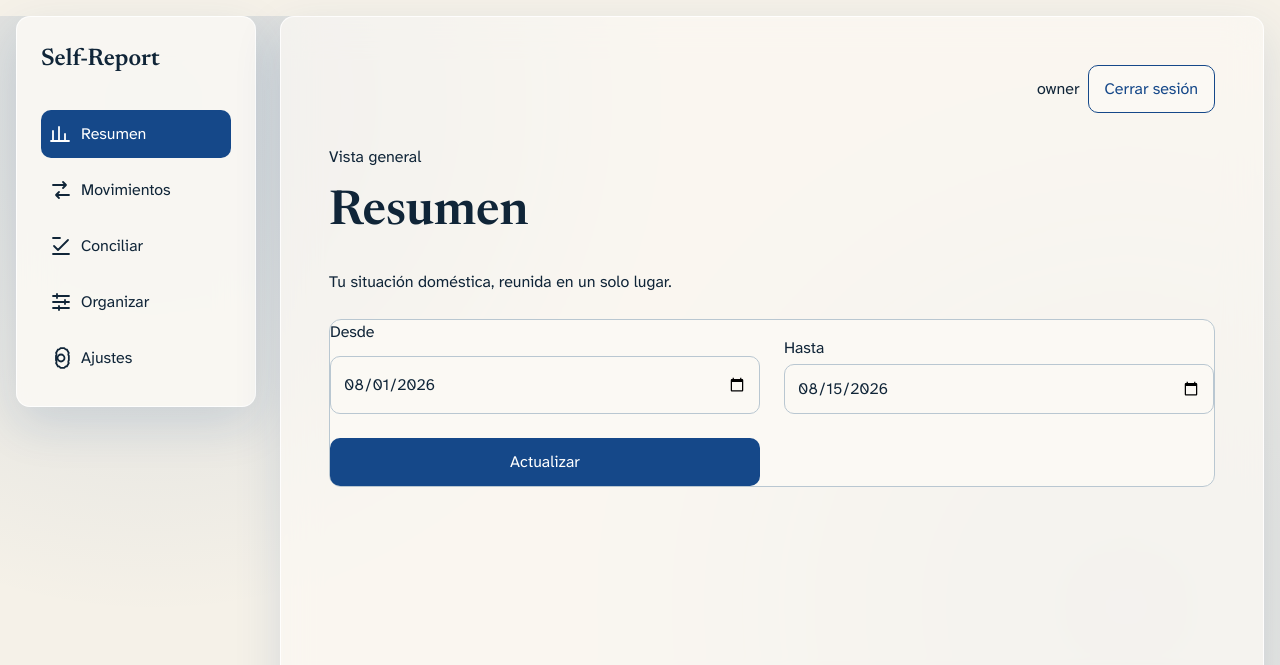
Test: protected application shell › creates the same-origin browser auth boundary when none is injected
This screenshot has width=1280, height=665.
Expected: the heading "Resumen" is shown, 329,189 -> 529,237
Click the link "Conciliar": coordinates (96, 246) 49,234 -> 143,258
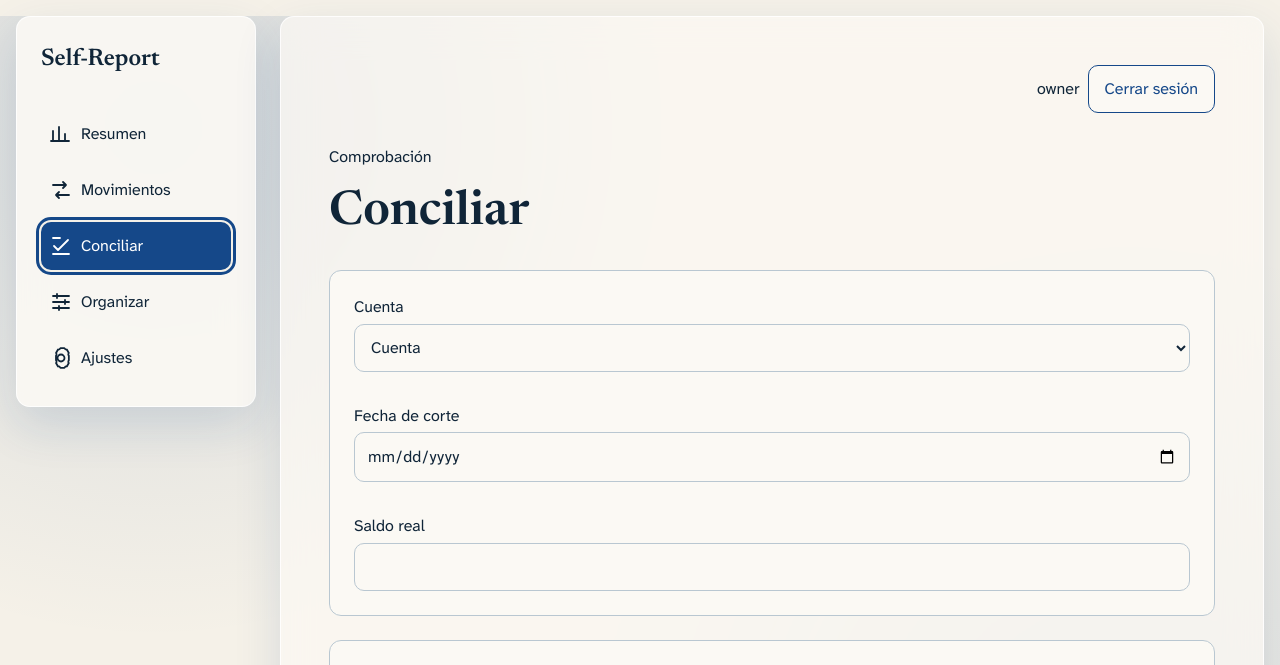
Now the heading "Conciliar" is shown, box 329,189 -> 529,237
Click the link "Resumen": coordinates (98, 134) 49,122 -> 146,146
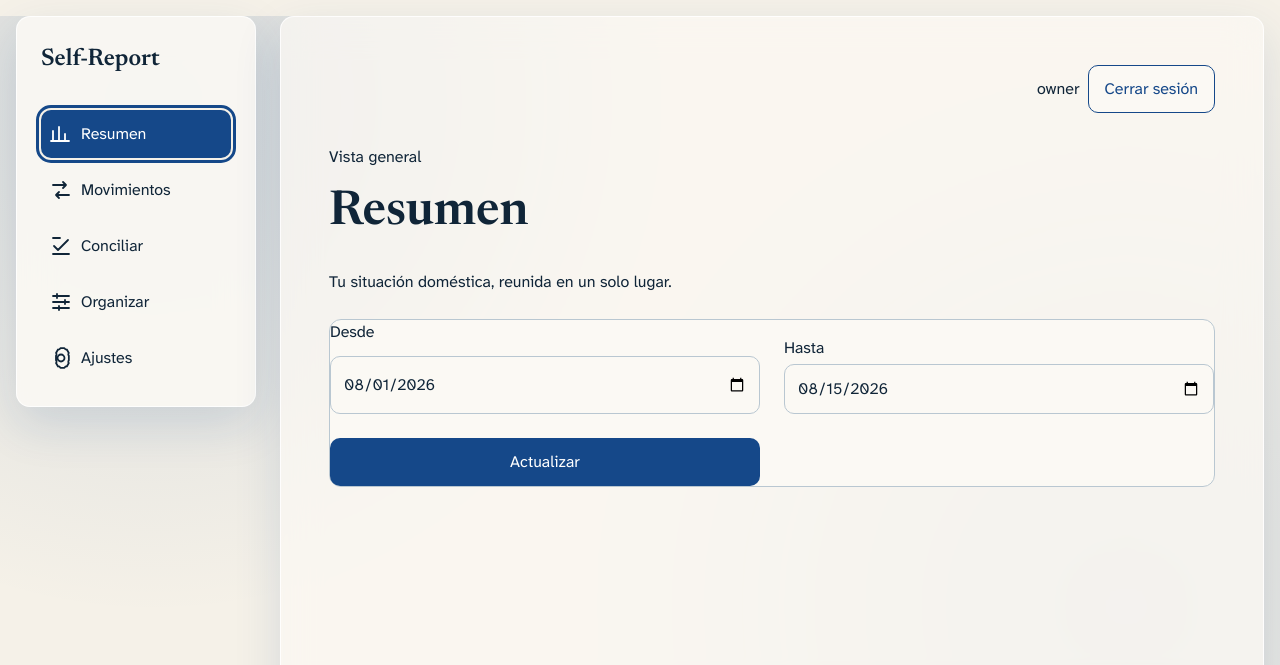
Click the button "Actualizar": coordinates (545, 462) 330,438 -> 760,486
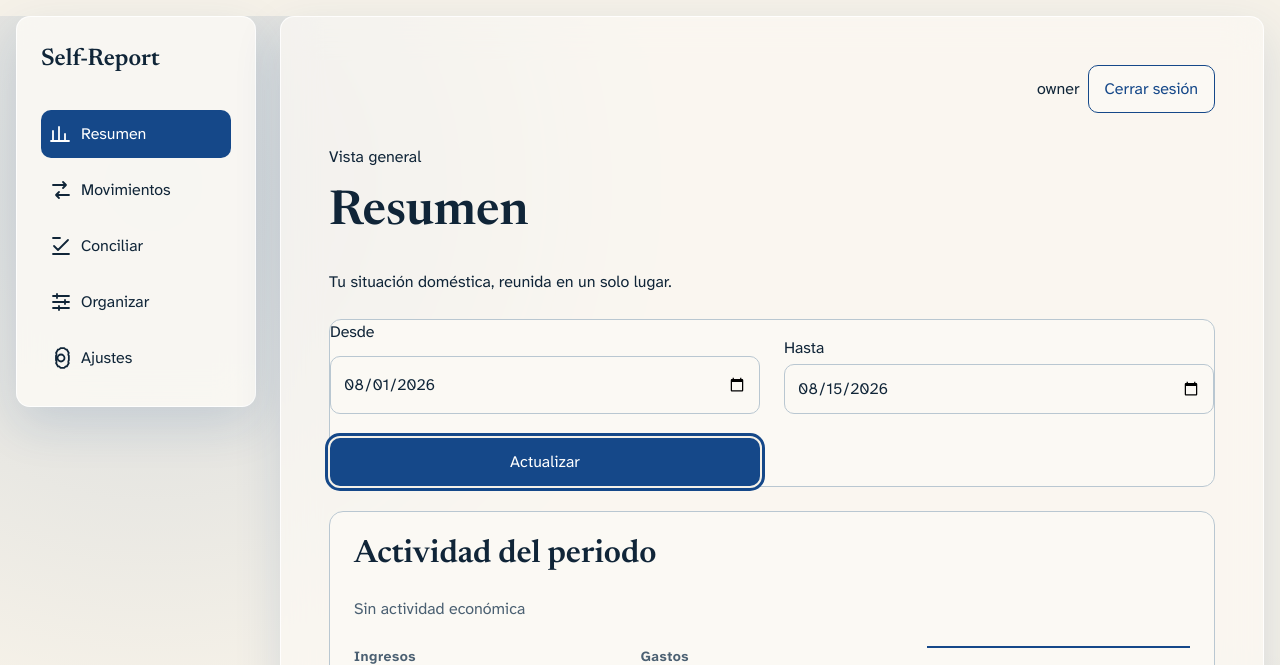
Now the text "Sin actividad económica" is shown, box 354,598 -> 525,619
